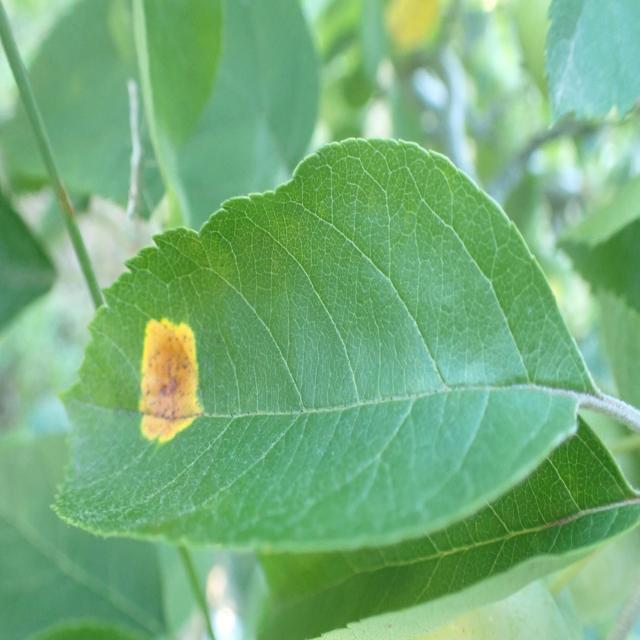Rust: (108, 300, 216, 476)
